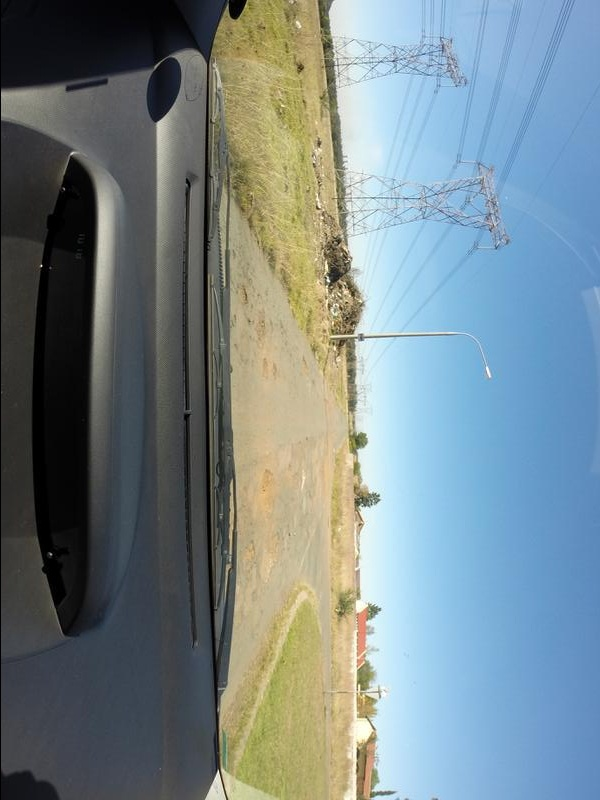pothole: (253, 464, 284, 517), (260, 532, 289, 586), (236, 540, 259, 584), (250, 310, 273, 345), (252, 357, 272, 386), (294, 358, 316, 377), (237, 285, 251, 311)
